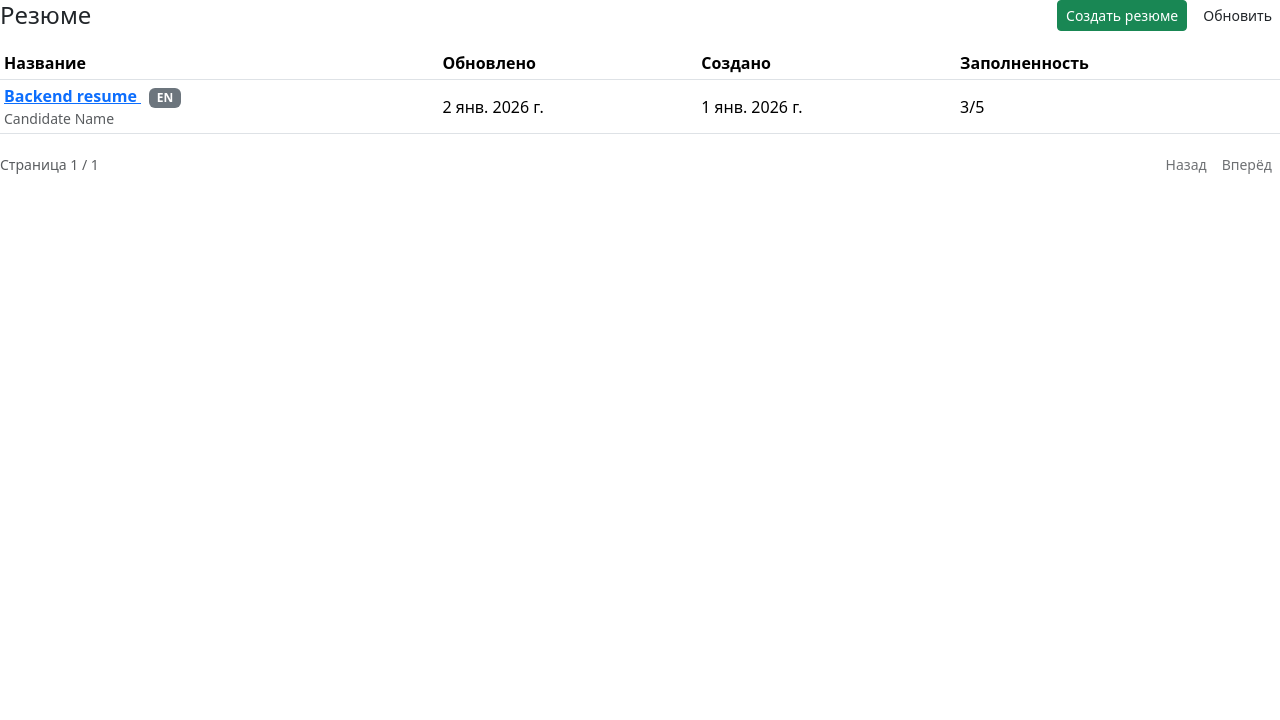
ResumesPageComponent › opens the create dialog
Click the button with test id "resume-create-open": (1122, 16) [1057,0,1187,31]
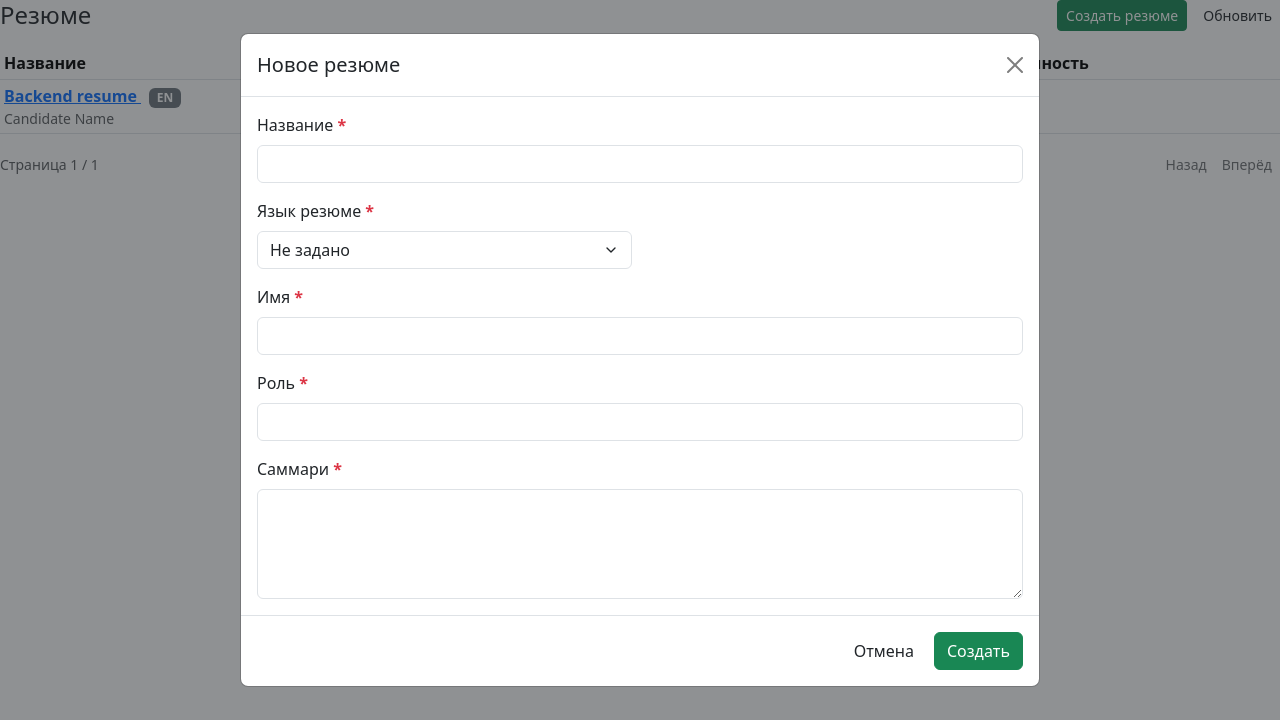
Expected: the dialog with test id "resume-create-dialog" is shown
